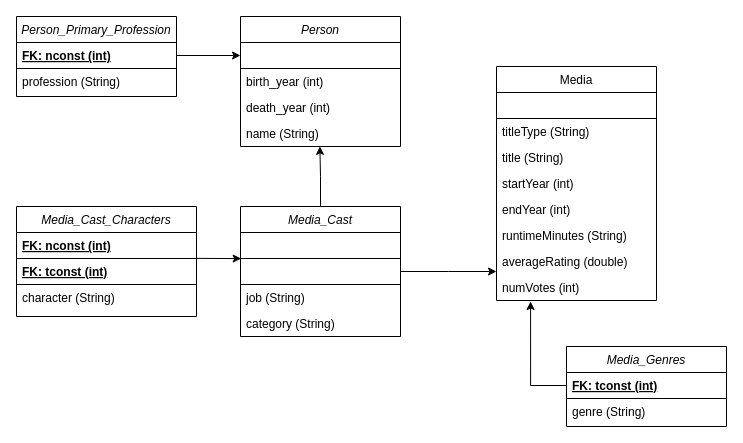
Some shapes in this 743 by 443 pixel diagram are drawn without their labels. Each missing label, with the centre of its shape:
"PK, FK: nconst (int)" belongs at pixel 320 245.
"PK, FK: tconst (int)" belongs at pixel 320 271.
"PK: nconst (int)" belongs at pixel 320 55.
"PK: tconst (int)" belongs at pixel 576 105.
